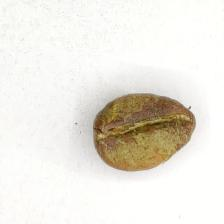NG: (104, 98, 183, 157)
